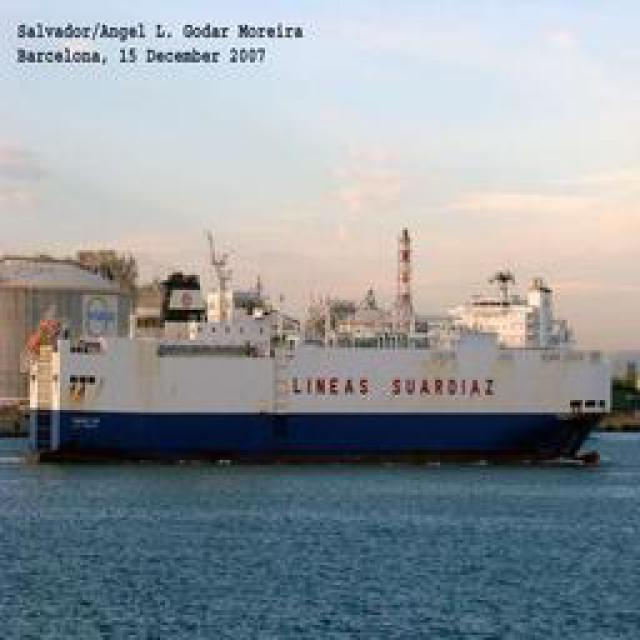Ship: (21, 236, 614, 461)
